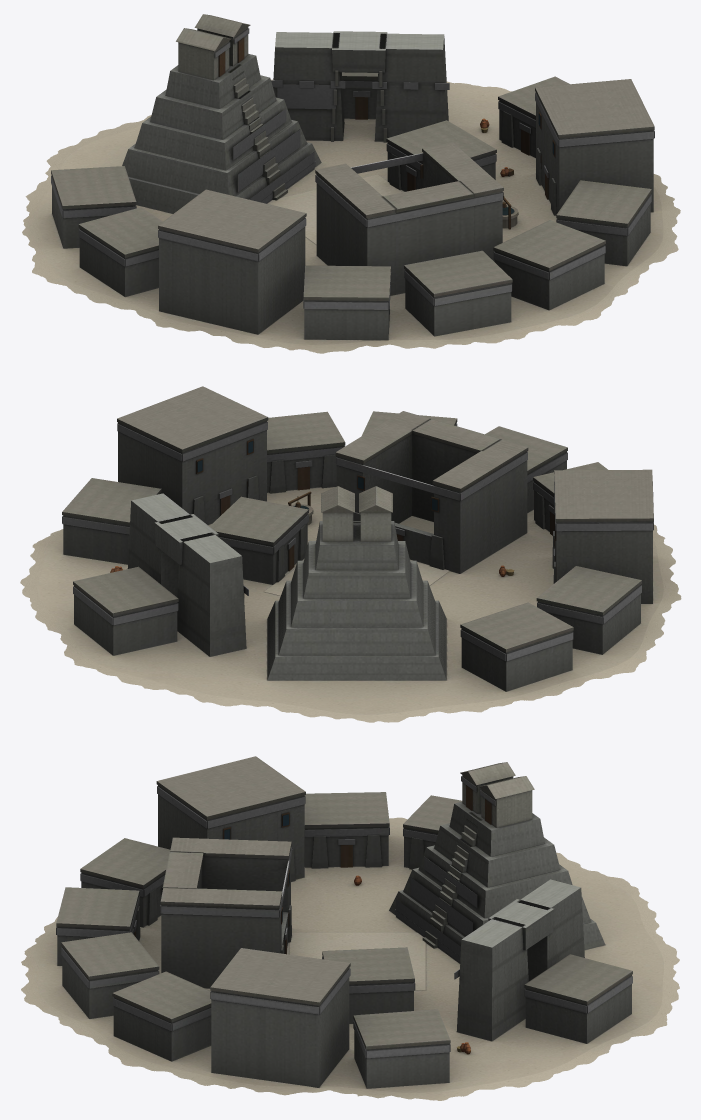
File: kingdoms-town-medium-a-americas.glb
3 views of the same model, one above another, from view 1: azimuth 30°, elevation 25°; view 2: azimuth 150°, elevation 25°; view 3: azimuth 270°, elevation 25° (orthographic).
Parts seen in each view (by area): view 1: LOD0; view 2: LOD0; view 3: LOD0.
Part boxes in pixels (<box>): LOD0: <box>22,14,680,353</box>; LOD0: <box>20,386,681,722</box>; LOD0: <box>21,756,679,1100</box>.
Size of what is drawn, in the model's own units: 6.04 by 1.53 by 5.93.
Materials: 3 (3 with a texture image).
